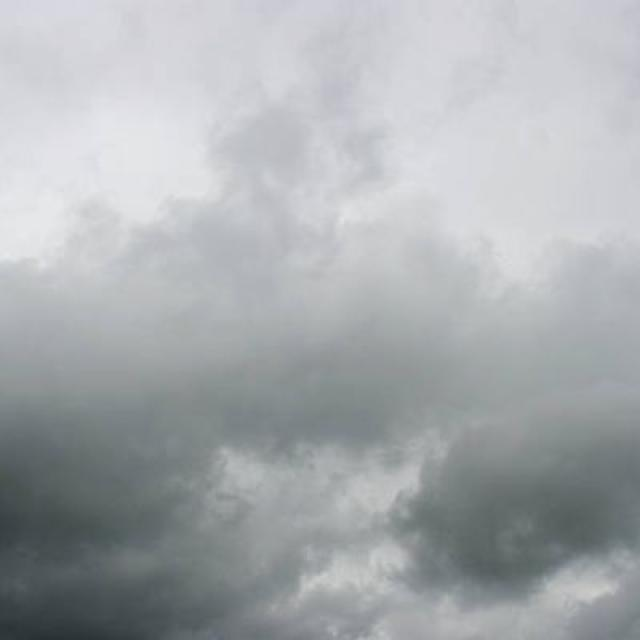As: (1, 74, 640, 609)
